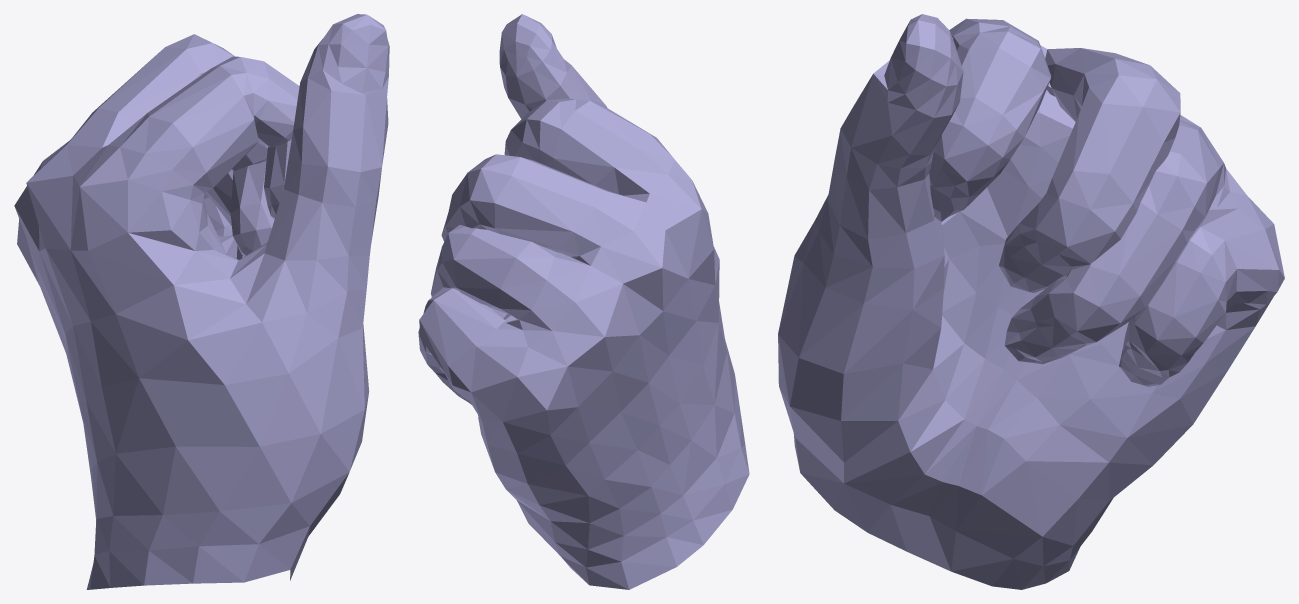
The model's file is frame_0030_source_000030_hand.glb.
3 views of the same model, side by side, from view 1: azimuth 30°, elevation 25°; view 2: azimuth 150°, elevation 25°; view 3: azimuth 270°, elevation 25° (orthographic). The views are drawn at different scales.
Visible parts, largest first — view 1: world; view 2: world; view 3: world.
Part boxes in pixels (bbox=[...]): world: bbox=[14, 14, 389, 589]; world: bbox=[418, 14, 749, 589]; world: bbox=[778, 14, 1284, 589].
Bounding box in the file's own units: 0.0611 × 0.1242 × 0.0907.
